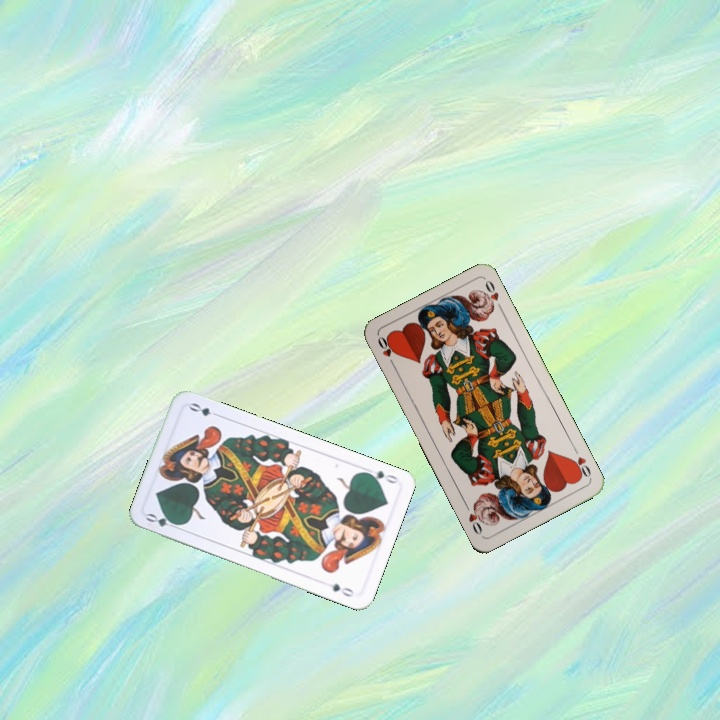GO: (142, 509, 183, 532), (360, 466, 401, 486)
HO: (567, 443, 594, 481), (373, 332, 398, 370)
